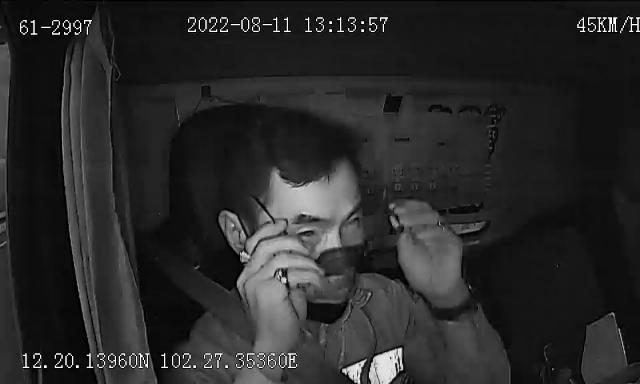SafeDriving: (419, 96, 460, 122)
Seatbelt: (188, 264, 360, 384)
